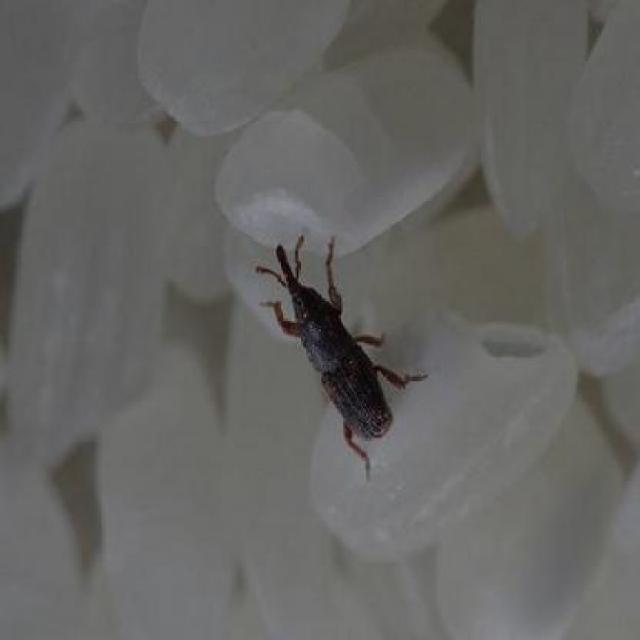rice-bug: (260, 231, 417, 463)
